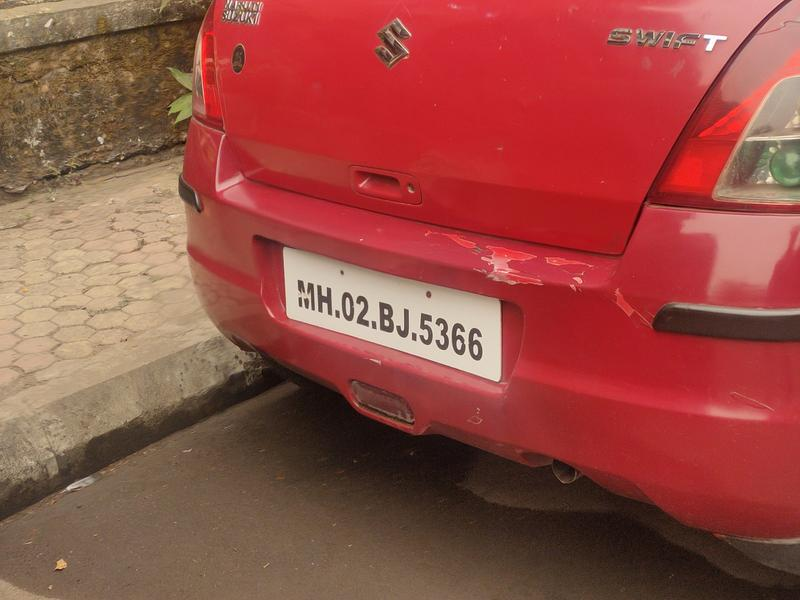license_plate: (273, 230, 505, 387)
